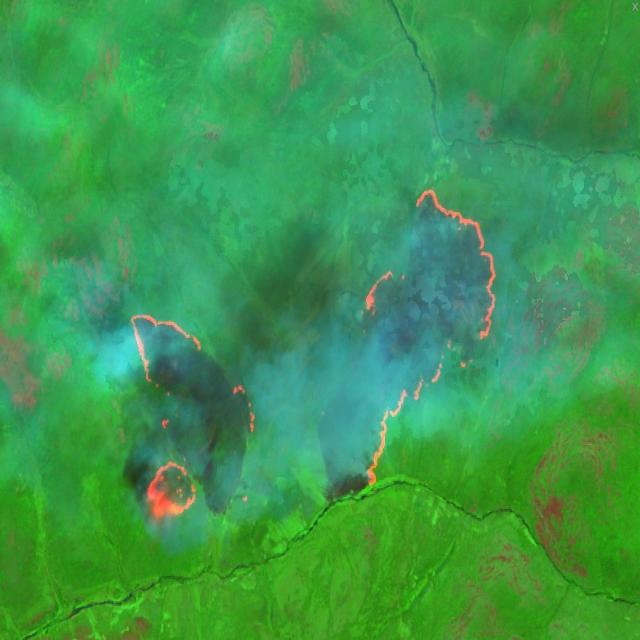fire: (360, 186, 500, 489), (129, 312, 257, 525)
